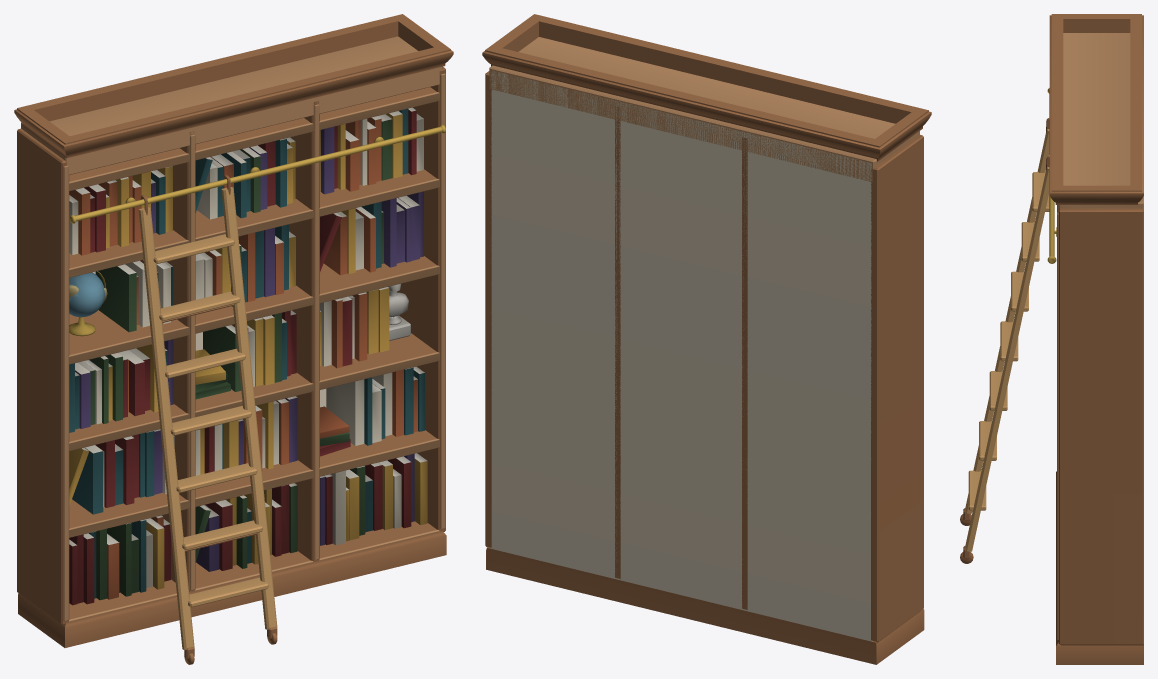
File: libraryWall.glb
3 views of the same model, side by side, from view 1: azimuth 30°, elevation 25°; view 2: azimuth 150°, elevation 25°; view 3: azimuth 270°, elevation 25° (orthographic). The views are drawn at different scales.
Parts seen in each view (by area): view 1: body, ladder; view 2: body; view 3: body, ladder.
Part boxes in pixels (x1,y1,x2,y2): body: (14,14,453,647); ladder: (138,175,277,664); body: (482,14,931,664); body: (1047,14,1143,664); ladder: (960,117,1049,563).
Size of the model in its own units: 1.88 by 2.34 by 0.82.
